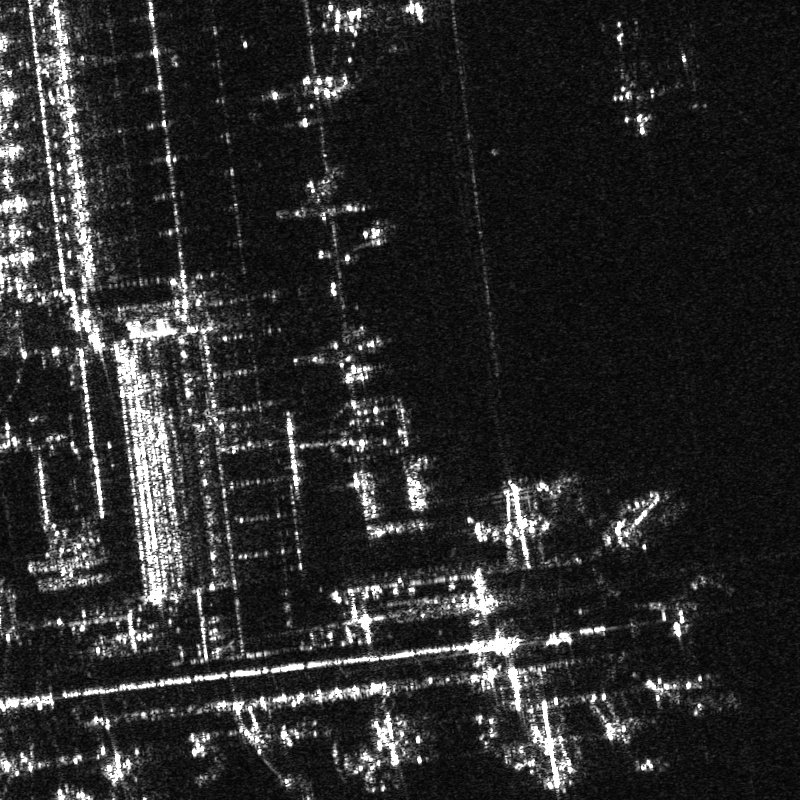Boeing787: (285, 160, 385, 248)
